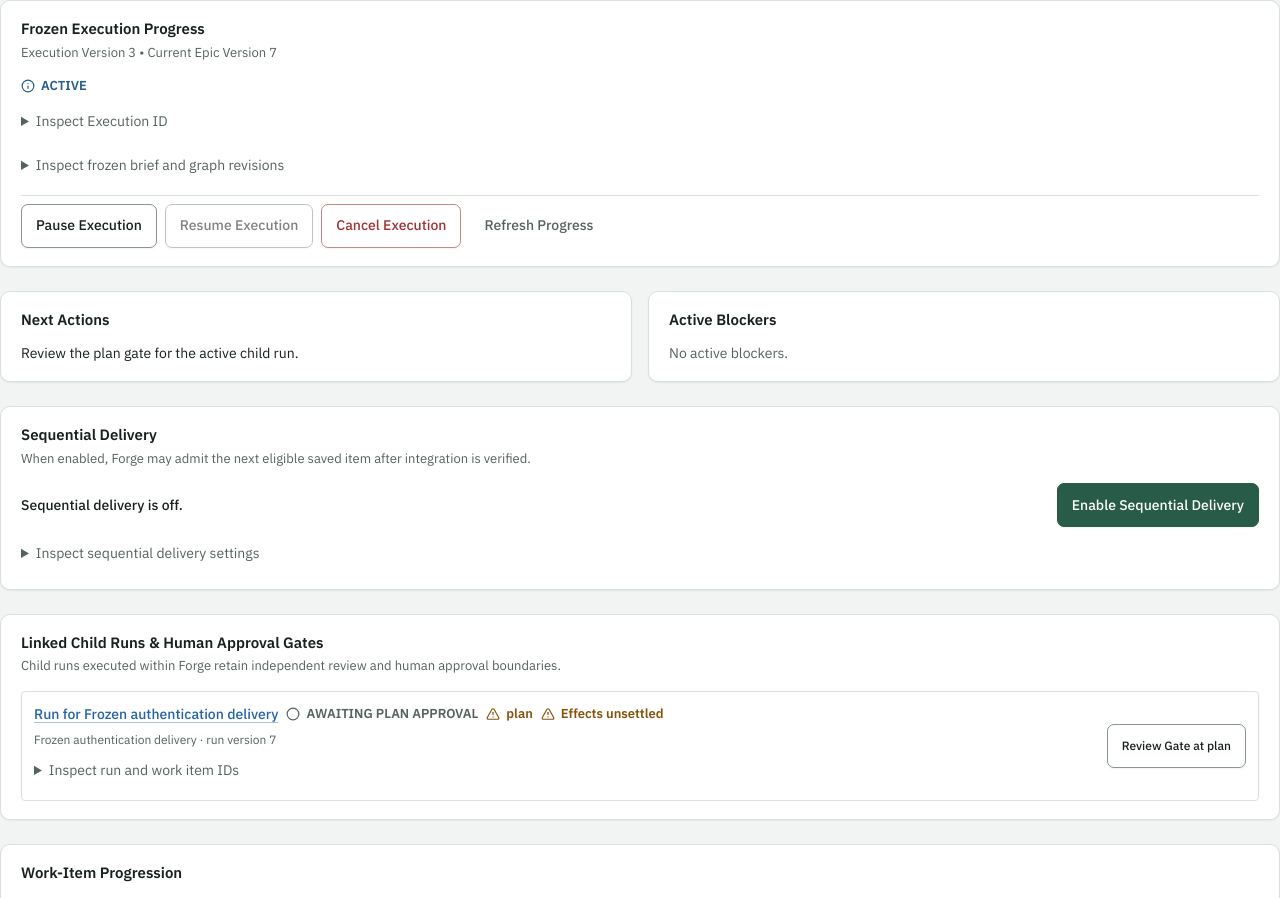
Test case: DeliveryWorkspace › reports a command as requested until the next server projection confirms it
Click the button "Pause Execution": [89, 226] box [21,204,157,248]
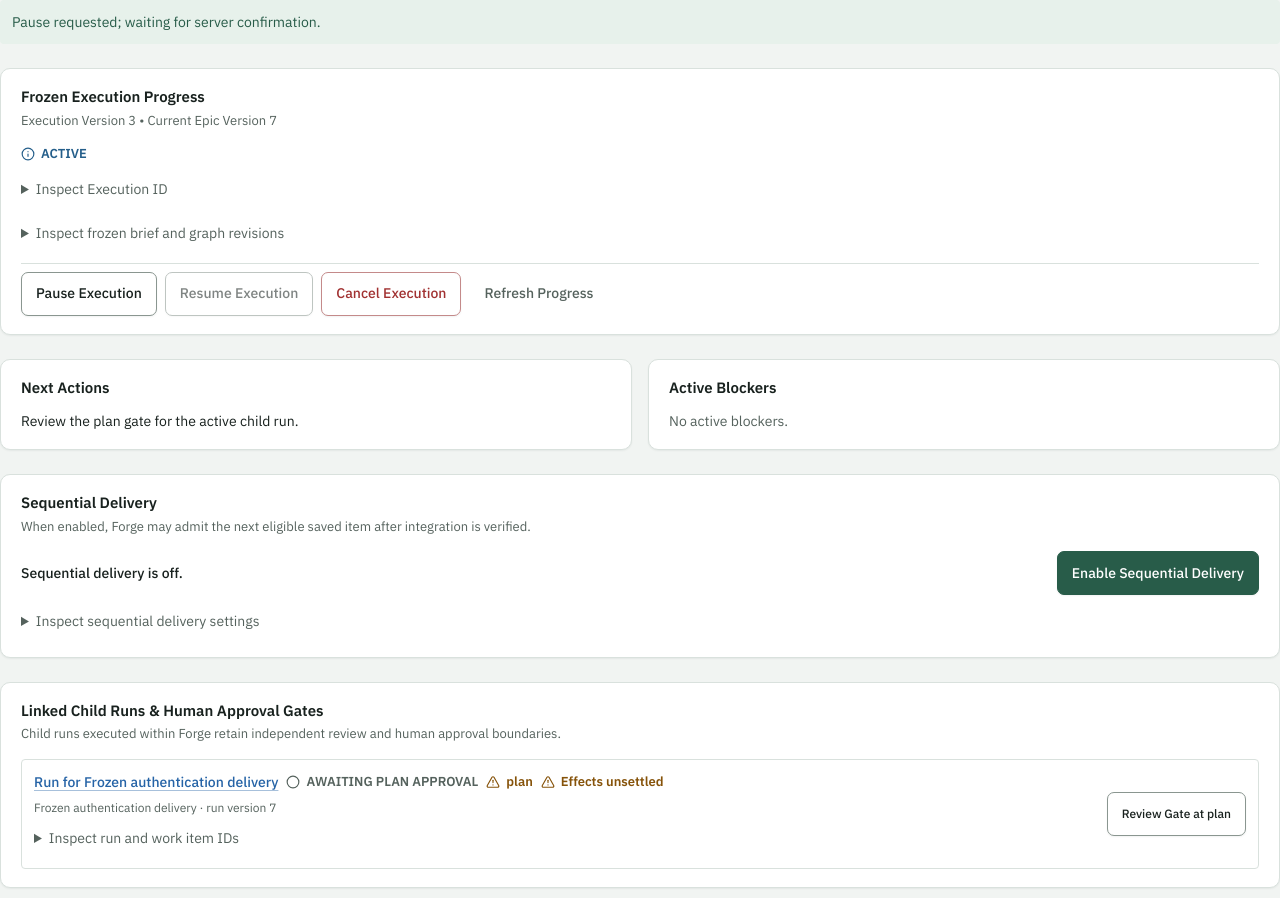
expect the text "ACTIVE" is shown: met, box [21,145,87,163]
expect the message reads "Pause requested; waiting for server confirmation.": met, box [12,13,320,31]
